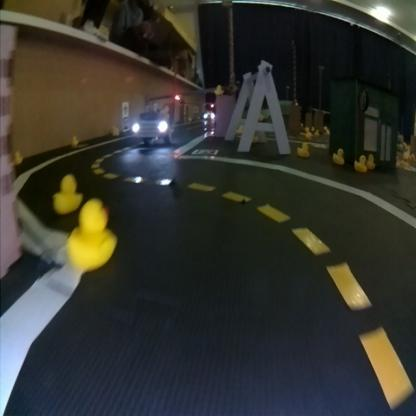Duckie: (70, 197, 118, 268), (56, 176, 80, 214), (354, 156, 368, 172), (298, 140, 312, 156), (333, 148, 345, 164), (368, 152, 376, 170), (14, 150, 24, 164), (112, 124, 121, 134), (216, 83, 223, 95), (71, 138, 79, 143)
Duckiebot: (132, 105, 174, 145), (204, 110, 216, 119)
Traffic light: (176, 94, 180, 100)
